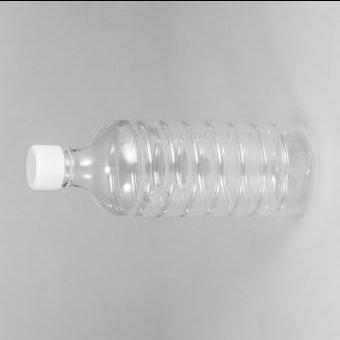bottle: (26, 118, 316, 222)
